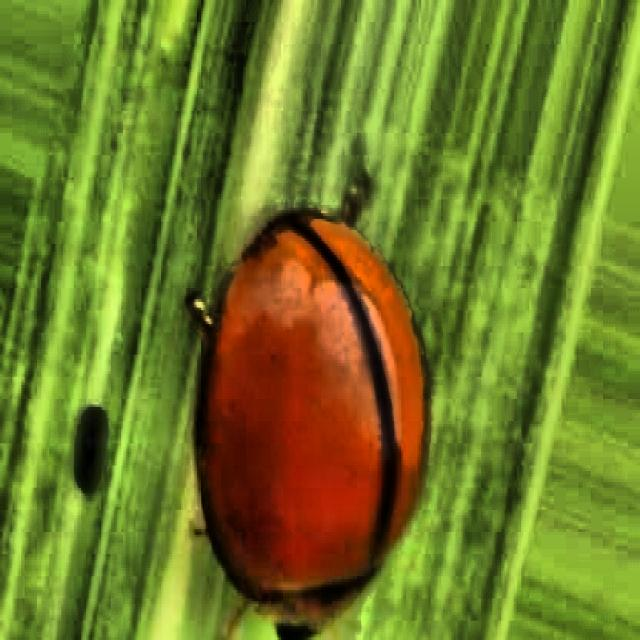Ladybug: (133, 138, 553, 640)
